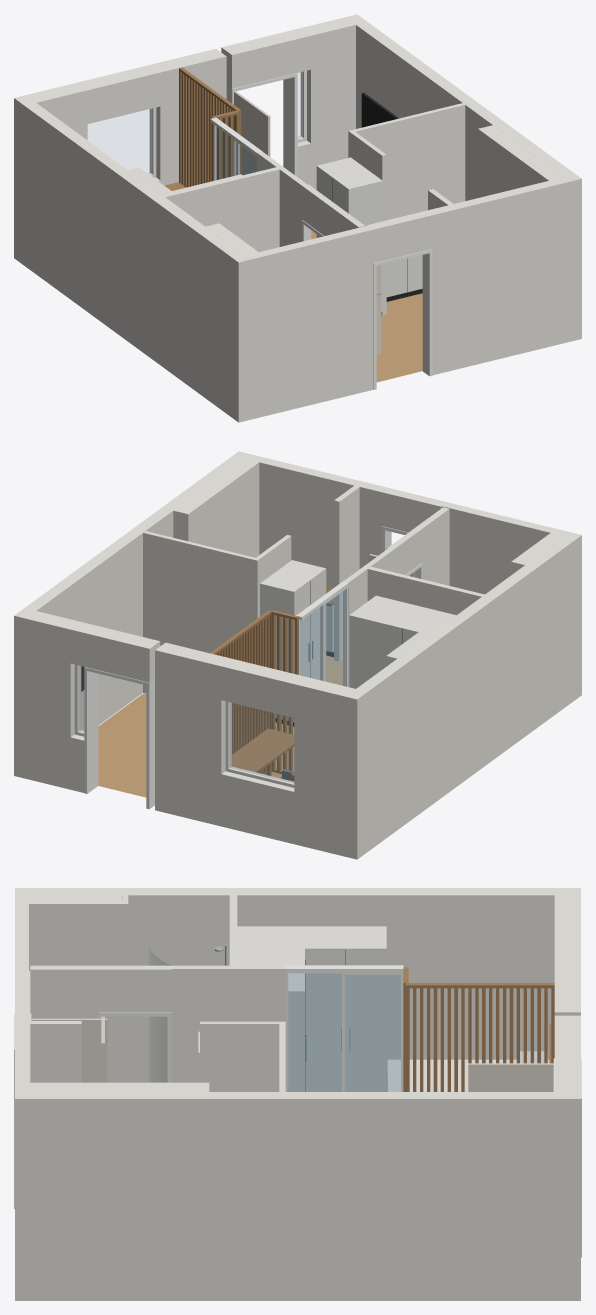
3 views of the same model, one above another, from view 1: azimuth 30°, elevation 25°; view 2: azimuth 150°, elevation 25°; view 3: azimuth 270°, elevation 25° (orthographic). The views are drawn at different scales.
Visible parts, largest first — view 1: w10, w6, w4, wyposazenie-sciana, w11, w7, w8, w2, wyposazenie-drewno, wyposazenie-bialy, w5, wyposazenie-rama (+12 smaller); view 2: w10, wyposazenie-sciana, w11, w5, w7, wyposazenie-bialy, w6, w1, w8, wyposazenie-drewno, w4, w15 (+11 smaller); view 3: w11, w10, wyposazenie-bialy, wyposazenie-szklo_blekitne, wyposazenie-drewno, w16, wyposazenie-sciana, w13, w14, wyposazenie-skrzydlo, w17, w18 (+13 smaller).
Part boxes in pixels (x1,y1,x2,y2): w10: [14, 95, 250, 422]; w6: [426, 177, 571, 375]; w4: [244, 225, 373, 419]; wyposazenie-sciana: [77, 28, 432, 263]; w11: [346, 14, 581, 341]; w7: [348, 103, 465, 220]; w8: [300, 17, 356, 189]; w2: [161, 166, 284, 251]; wyposazenie-drewno: [164, 67, 241, 190]; wyposazenie-bialy: [128, 157, 422, 311]; w5: [149, 49, 226, 185]; wyposazenie-rama: [226, 73, 432, 389]; w10: [346, 532, 581, 859]; wyposazenie-sciana: [70, 488, 446, 843]; w11: [14, 451, 248, 778]; w5: [155, 642, 231, 826]; w7: [142, 531, 259, 693]; wyposazenie-bialy: [260, 560, 456, 722]; w6: [243, 454, 387, 585]; w1: [294, 676, 356, 856]; w8: [24, 610, 81, 789]; wyposazenie-drewno: [210, 610, 298, 781]; w4: [441, 502, 570, 594]; w15: [183, 461, 259, 557]; w11: [15, 1092, 580, 1300]; w10: [15, 888, 580, 1082]; wyposazenie-bialy: [198, 926, 549, 1091]; wyposazenie-szklo_blekitne: [288, 973, 400, 1091]; wyposazenie-drewno: [386, 967, 554, 1091]; w16: [29, 901, 128, 1082]; wyposazenie-sciana: [15, 927, 580, 1064]; w13: [200, 1021, 280, 1091]; w14: [172, 965, 229, 1082]; wyposazenie-skrzydlo: [31, 1016, 553, 1091]; w17: [30, 965, 98, 1018]; w18: [30, 1021, 81, 1082].
Bounding box in the file's own units: 5.83 × 2.6 × 6.63.
